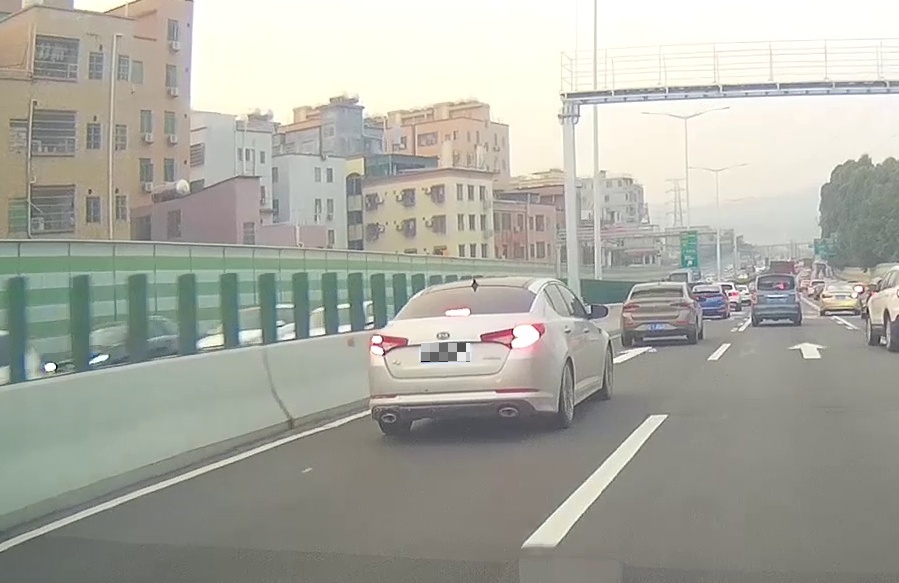L_light: (369, 334, 409, 356), (623, 304, 640, 312), (752, 292, 757, 303), (822, 293, 832, 298)
R_light: (480, 322, 544, 348), (670, 301, 690, 308), (794, 290, 799, 302), (848, 293, 858, 298)
T_light: (445, 308, 469, 317), (652, 284, 664, 288), (771, 275, 780, 278), (836, 283, 843, 286)
day-brake: (368, 276, 547, 434)
day-no: (620, 281, 695, 347), (751, 273, 801, 325)
day-right: (821, 282, 860, 315)
plate_1: (421, 343, 470, 362)
